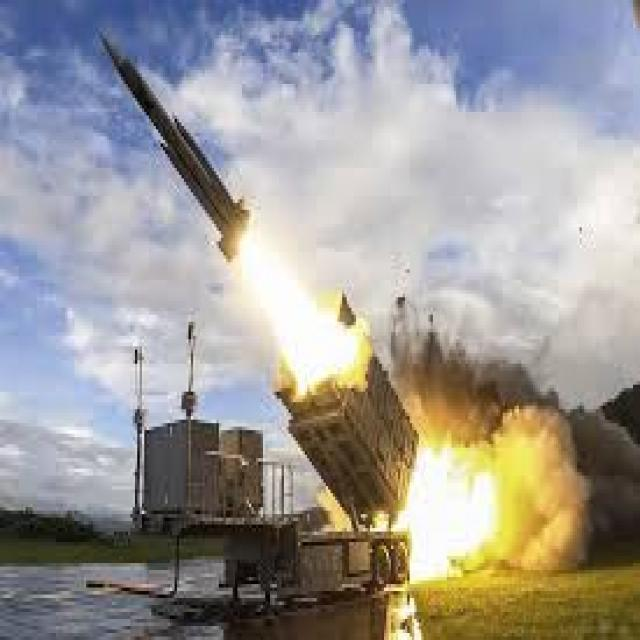missile: (82, 19, 253, 268)
